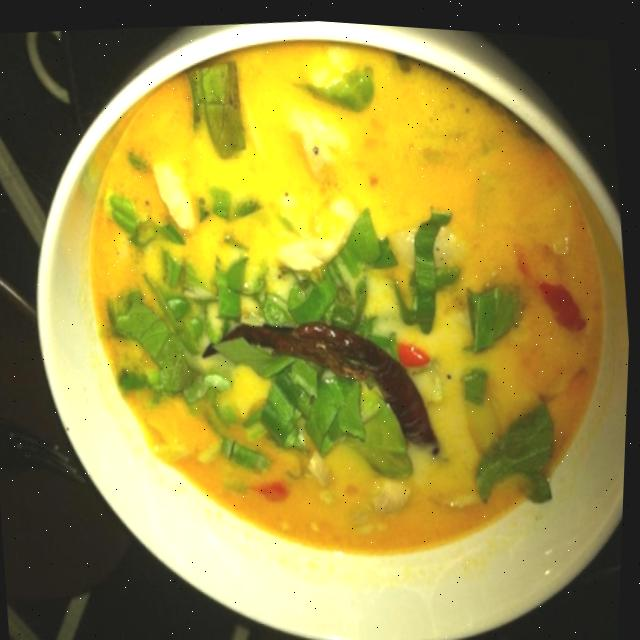汤锅炖物: (21, 2, 640, 640)
